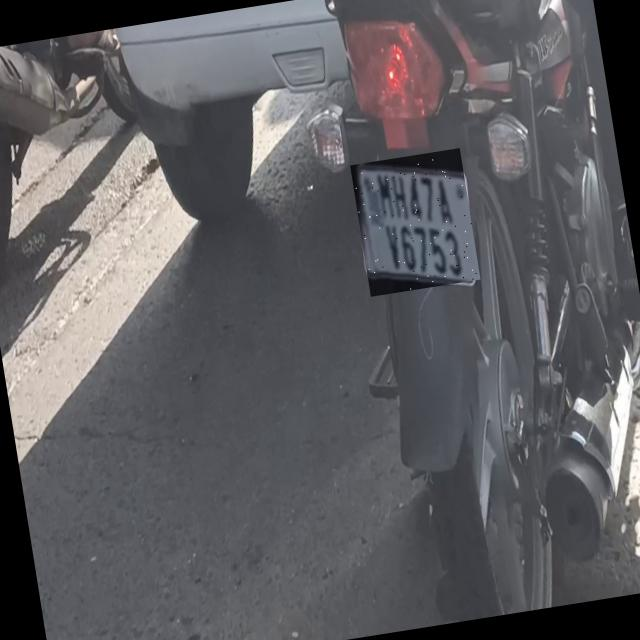Plate: (352, 149, 482, 298)
